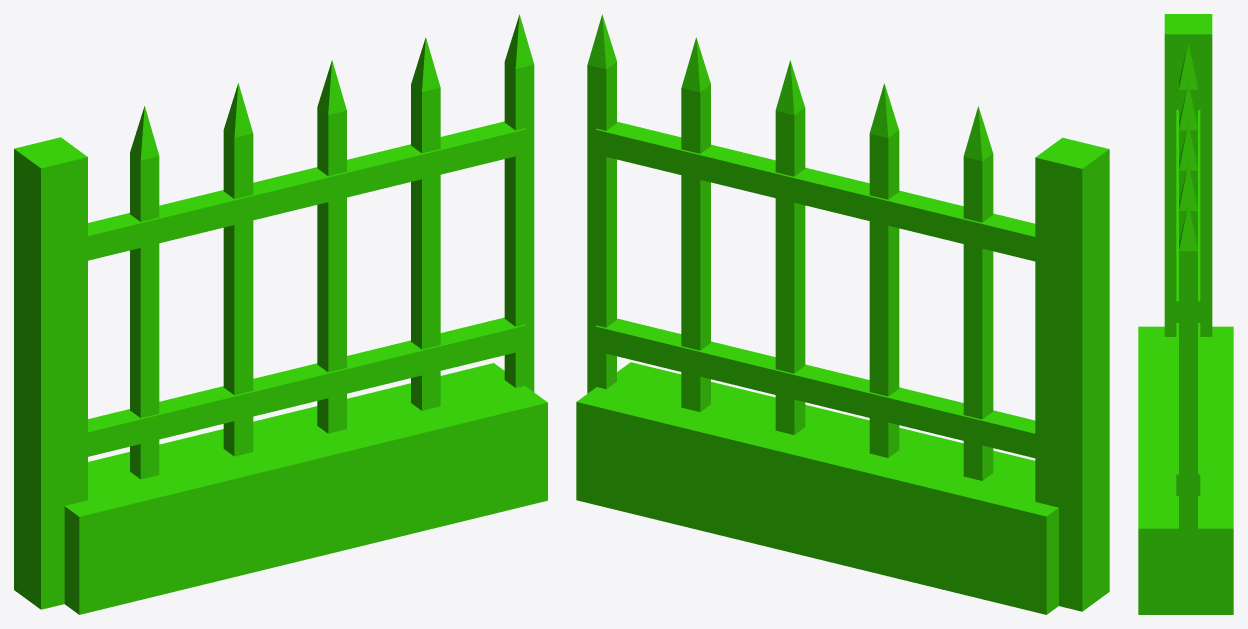
Rendered from fence1_06.fbx.
The picture shows the model from 3 angles, left to right: view 1: azimuth 30°, elevation 25°; view 2: azimuth 150°, elevation 25°; view 3: azimuth 270°, elevation 25°; orthographic projection. The views are drawn at different scales.
Parts seen in each view (by area): view 1: fence1_06; view 2: fence1_06; view 3: fence1_06.
Part boxes in pixels (box(x1,y1,x2,y2)): fence1_06: box(14, 14, 547, 614); fence1_06: box(576, 14, 1109, 614); fence1_06: box(1138, 14, 1233, 614).
Bounding box in the file's own units: 107 × 95 × 20.
